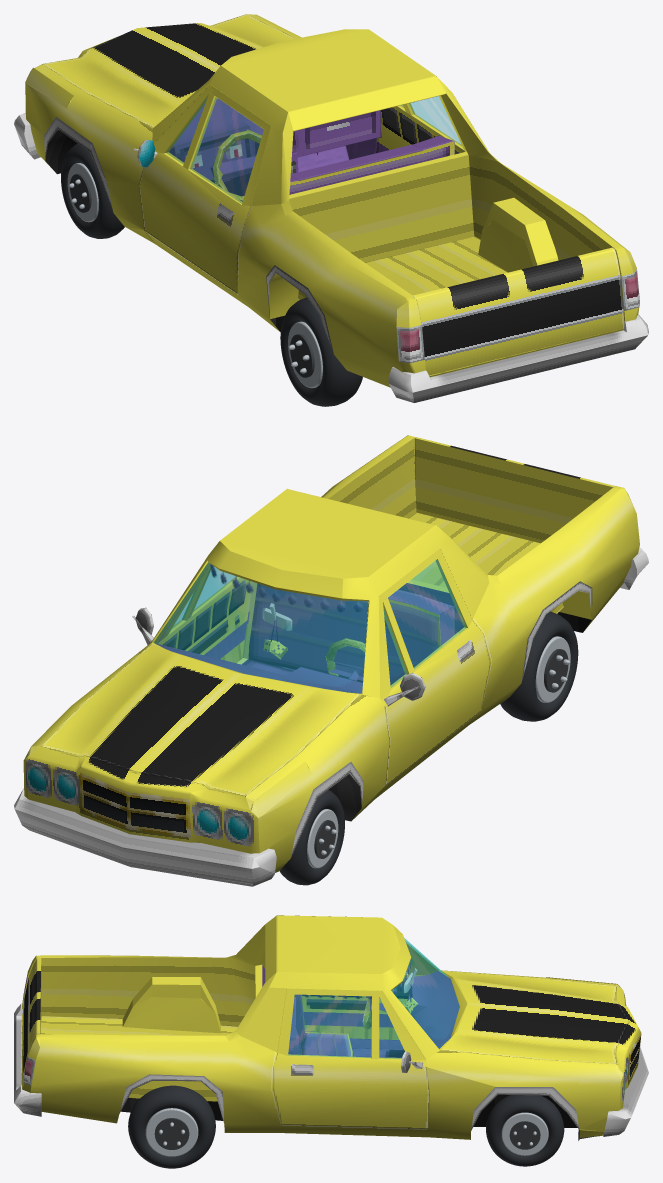
Rendered from car-bbman_v.glb.
3 renders of one model, top to bottom at view 1: azimuth 30°, elevation 25°; view 2: azimuth 150°, elevation 25°; view 3: azimuth 270°, elevation 25°, orthographic. The views are drawn at different scales.
Parts seen in each view (by area): view 1: bbman_vShape.005, bbman_vShape.002, bbman_vShape.001, tailgateShape, bbman_vShape.010, HoodRotShape.002, DoorDRotShape.004, DoorDRotShape.008, Rounded tire.006, DoorDRotShape.003, Rounded tire.005, DoorPInnerShape (+7 smaller); view 2: HoodRotShape.002, bbman_vShape.002, bbman_vShape.005, bbman_vShape.001, bbman_vShape.009, bbman_vShape.004, tailgateShape.001, bbman_vShape.010, DoorDRotShape.004, DoorDRotShape.008, DoorPInnerShape, Rounded tire.006 (+11 smaller); view 3: bbman_vShape.003, bbman_vShape.005, bbman_vShape.001, HoodRotShape.002, DoorPRotShape.005, bbman_vShape.002, bbman_vShape.010, DoorPRotShape.009, Rounded tire.007, bbman_vShape.009, DoorDInnerShape, Rounded tire.004 (+9 smaller).
Part boxes in pixels (box(x1,y1,x2,y2)): bbman_vShape.005: box(157, 88, 617, 375); bbman_vShape.002: box(25, 14, 639, 387); bbman_vShape.001: box(14, 66, 648, 402); tailgateShape: box(413, 247, 624, 375); bbman_vShape.010: box(221, 29, 445, 131); HoodRotShape.002: box(43, 14, 296, 128); DoorDRotShape.004: box(138, 153, 250, 293); DoorDRotShape.008: box(166, 97, 263, 203); Rounded tire.006: box(280, 297, 362, 406); DoorDRotShape.003: box(154, 84, 270, 206); Rounded tire.005: box(61, 143, 124, 238); DoorPInnerShape: box(376, 106, 464, 154); HoodRotShape.002: box(41, 643, 361, 796); bbman_vShape.002: box(24, 435, 639, 872); bbman_vShape.005: box(155, 439, 563, 790); bbman_vShape.001: box(14, 435, 648, 886); bbman_vShape.009: box(154, 562, 368, 693); bbman_vShape.004: box(23, 746, 259, 853); tailgateShape.001: box(414, 438, 615, 543); bbman_vShape.010: box(220, 489, 434, 578); DoorDRotShape.004: box(384, 620, 490, 784); DoorDRotShape.008: box(384, 559, 466, 687); DoorPInnerShape: box(158, 577, 252, 662); Rounded tire.006: box(500, 611, 578, 721); bbman_vShape.003: box(30, 1036, 495, 1139); bbman_vShape.005: box(21, 957, 459, 1101); bbman_vShape.001: box(14, 915, 648, 1136); HoodRotShape.002: box(440, 970, 628, 1063); DoorPRotShape.005: box(273, 1052, 429, 1128); bbman_vShape.002: box(22, 955, 622, 1137); bbman_vShape.010: box(265, 915, 400, 982); DoorPRotShape.009: box(288, 995, 404, 1058); Rounded tire.007: box(128, 1085, 215, 1168); bbman_vShape.009: box(391, 938, 459, 1048); DoorDInnerShape: box(302, 975, 424, 1039); Rounded tire.004: box(486, 1095, 564, 1166).
Size of the model in its own units: 2.48 by 1.92 by 6.09.
Materials: 15 (12 with a texture image).
